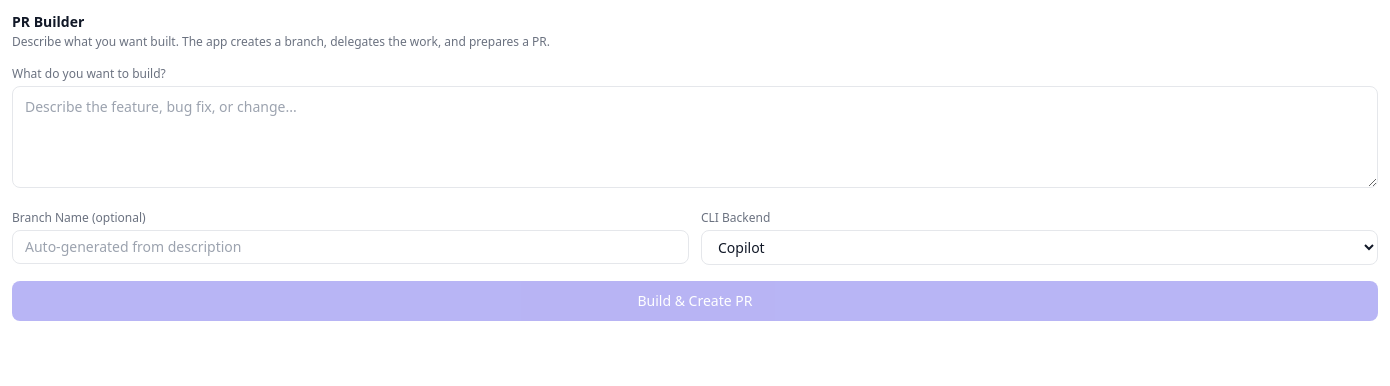
Test: PRBuilder › shows success message after delegation
Step 1. Type "Build dashboard" into the text box with placeholder "Describe the feature, bug fix, or change..." → (695, 137), box [12, 86, 1378, 188]
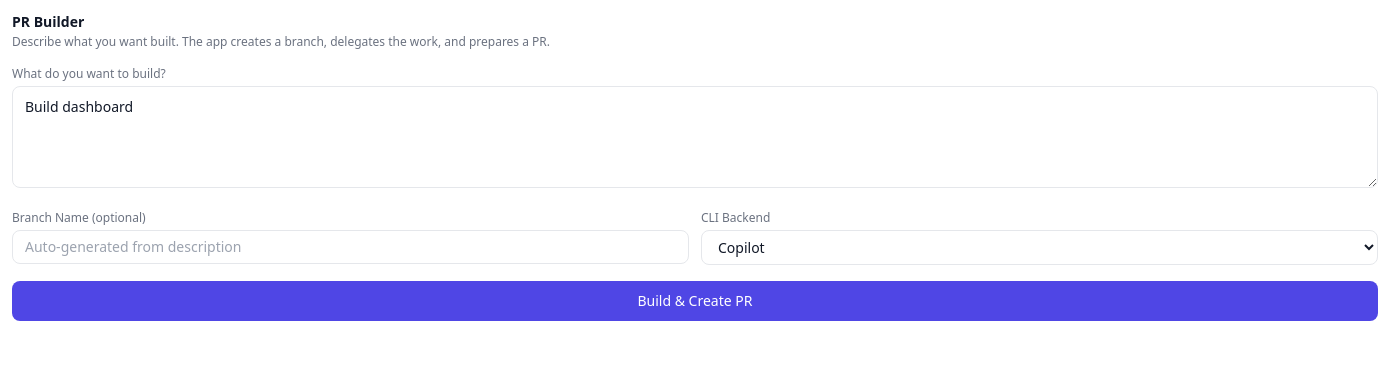
Step 2. Click the button "Build & Create PR" → (695, 301), box [12, 281, 1378, 321]
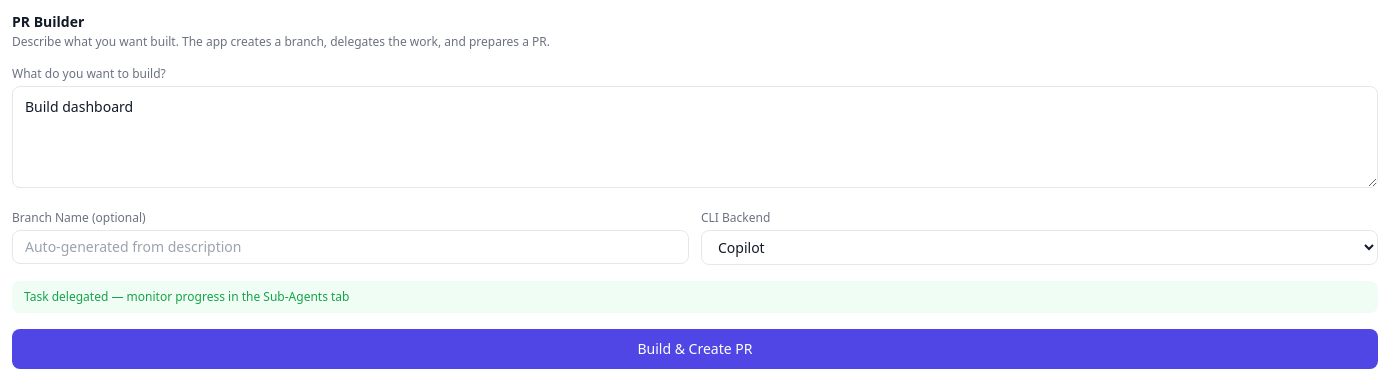
Now the text "Task delegated — monitor progress in the Sub-Agents tab" is shown, box [12, 281, 1378, 313]
